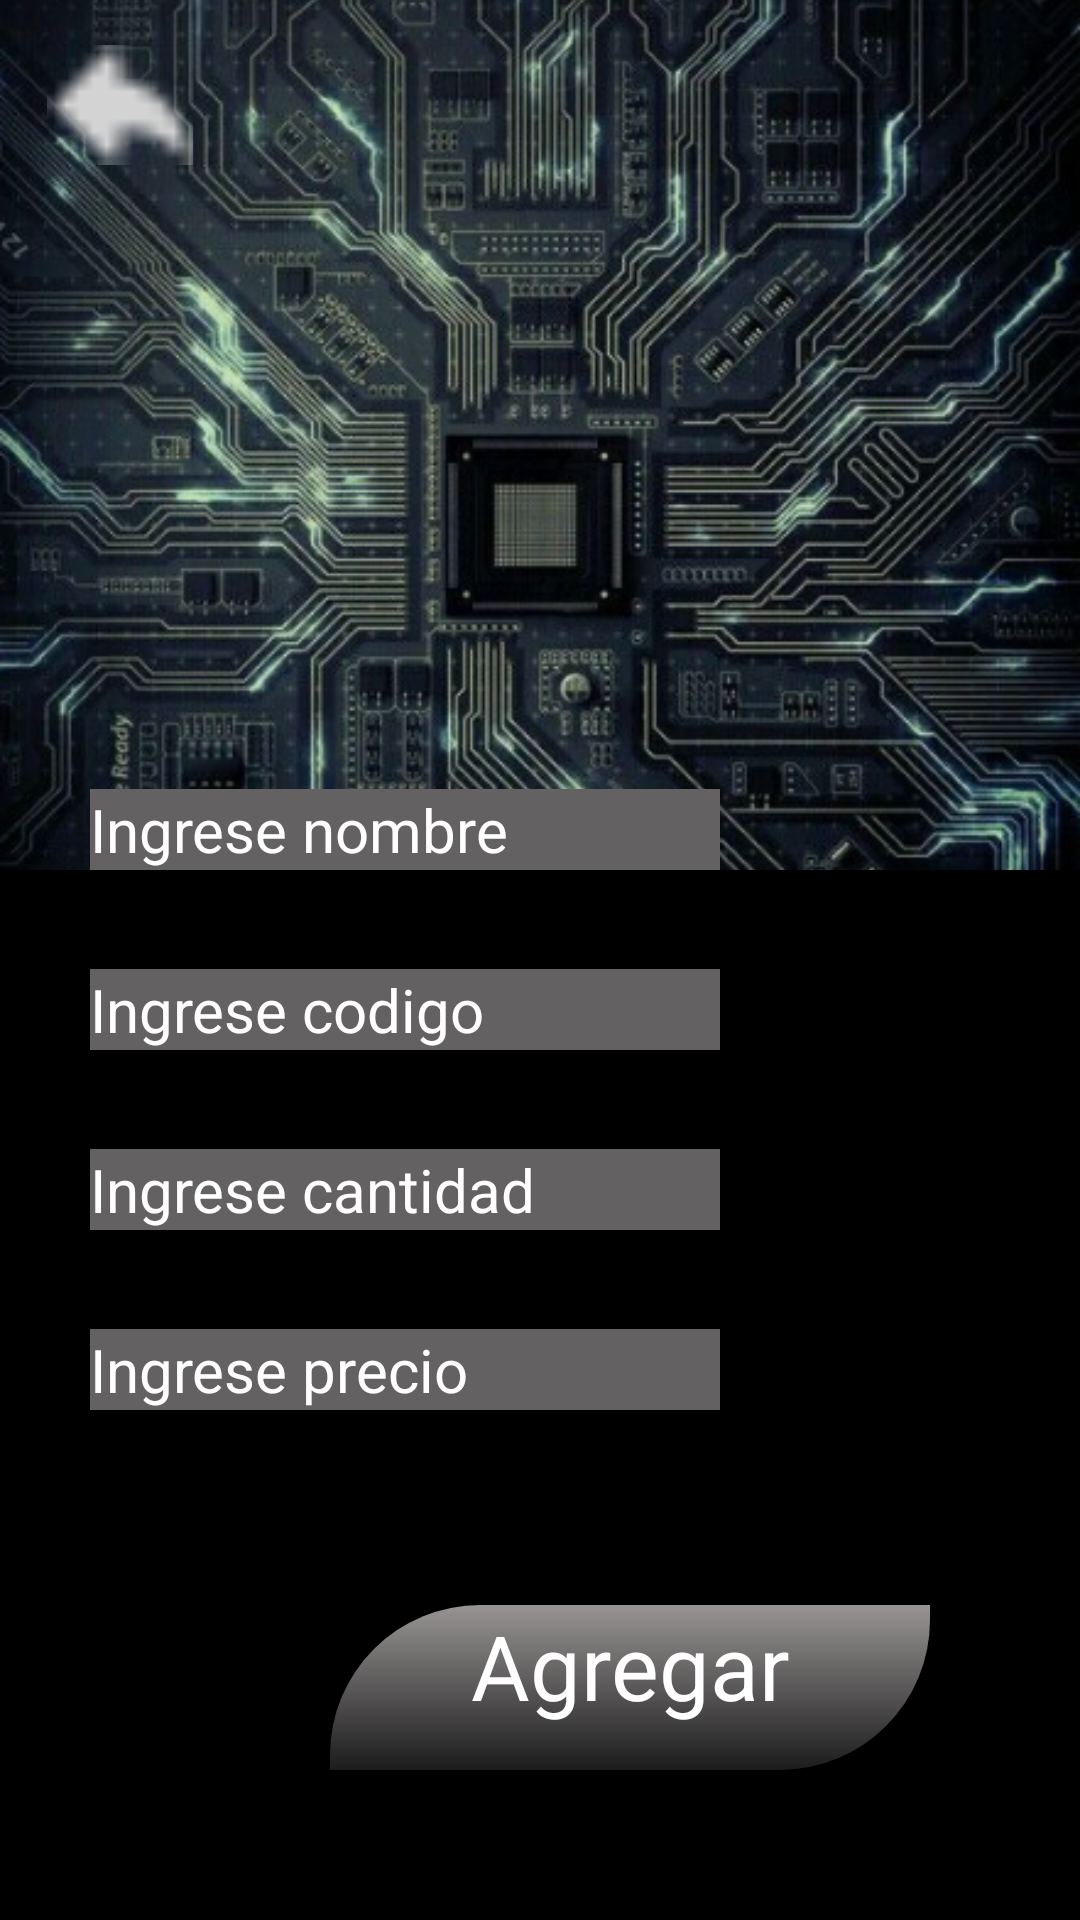

Icons on this 1080 x 1920 Android screen, each with its box as {"x1": x1, "y1": y1, "x2": x2, "y2": y2}:
flecha: {"x1": 30, "y1": 45, "x2": 210, "y2": 165}
